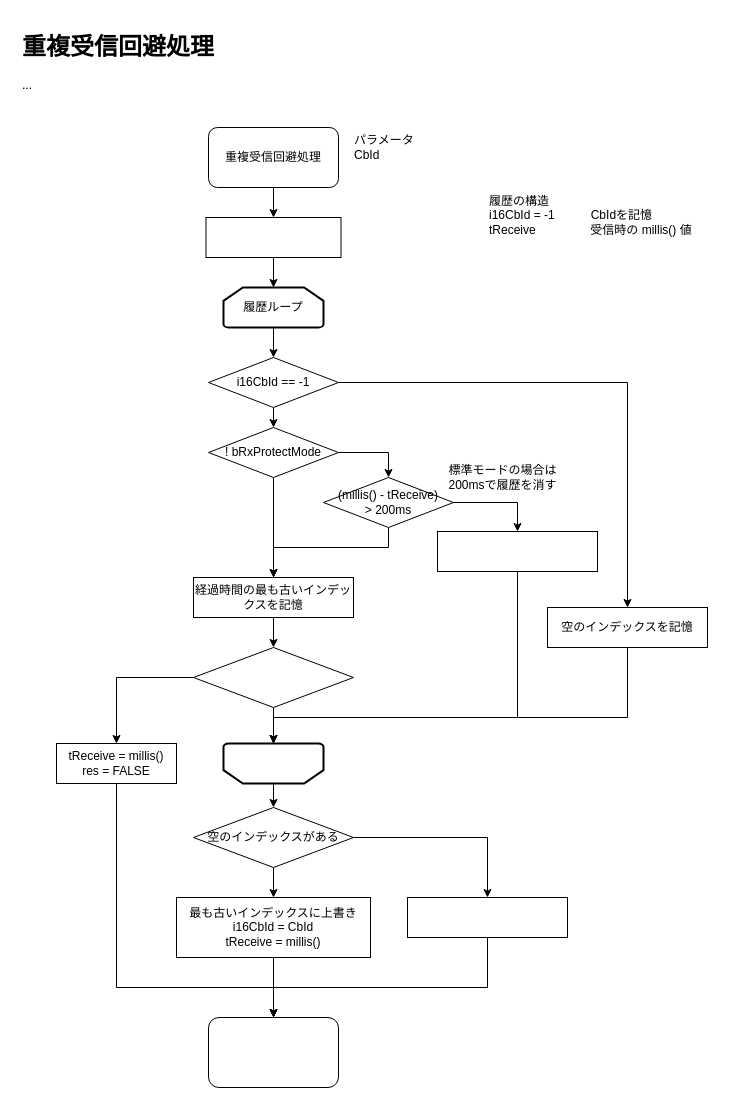
The diagram is 744 pixels wide and 1105 high, and some of its shapes have lost their labels. Each missing label, with the box of its shape:
i16CbId = -1 空のインデックスを記憶: (436, 530, 598, 572)
i16CbId = CbId tReceive = millis(): (406, 896, 568, 938)
i16CbId == CbId: (192, 646, 354, 708)
返り値 res = TRUE: (205, 216, 341, 258)
重複受信回避処理 おわり 返り値：res: (208, 1016, 338, 1088)
